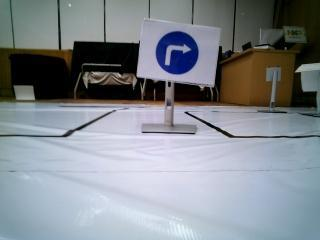right: (150, 25, 214, 84)
